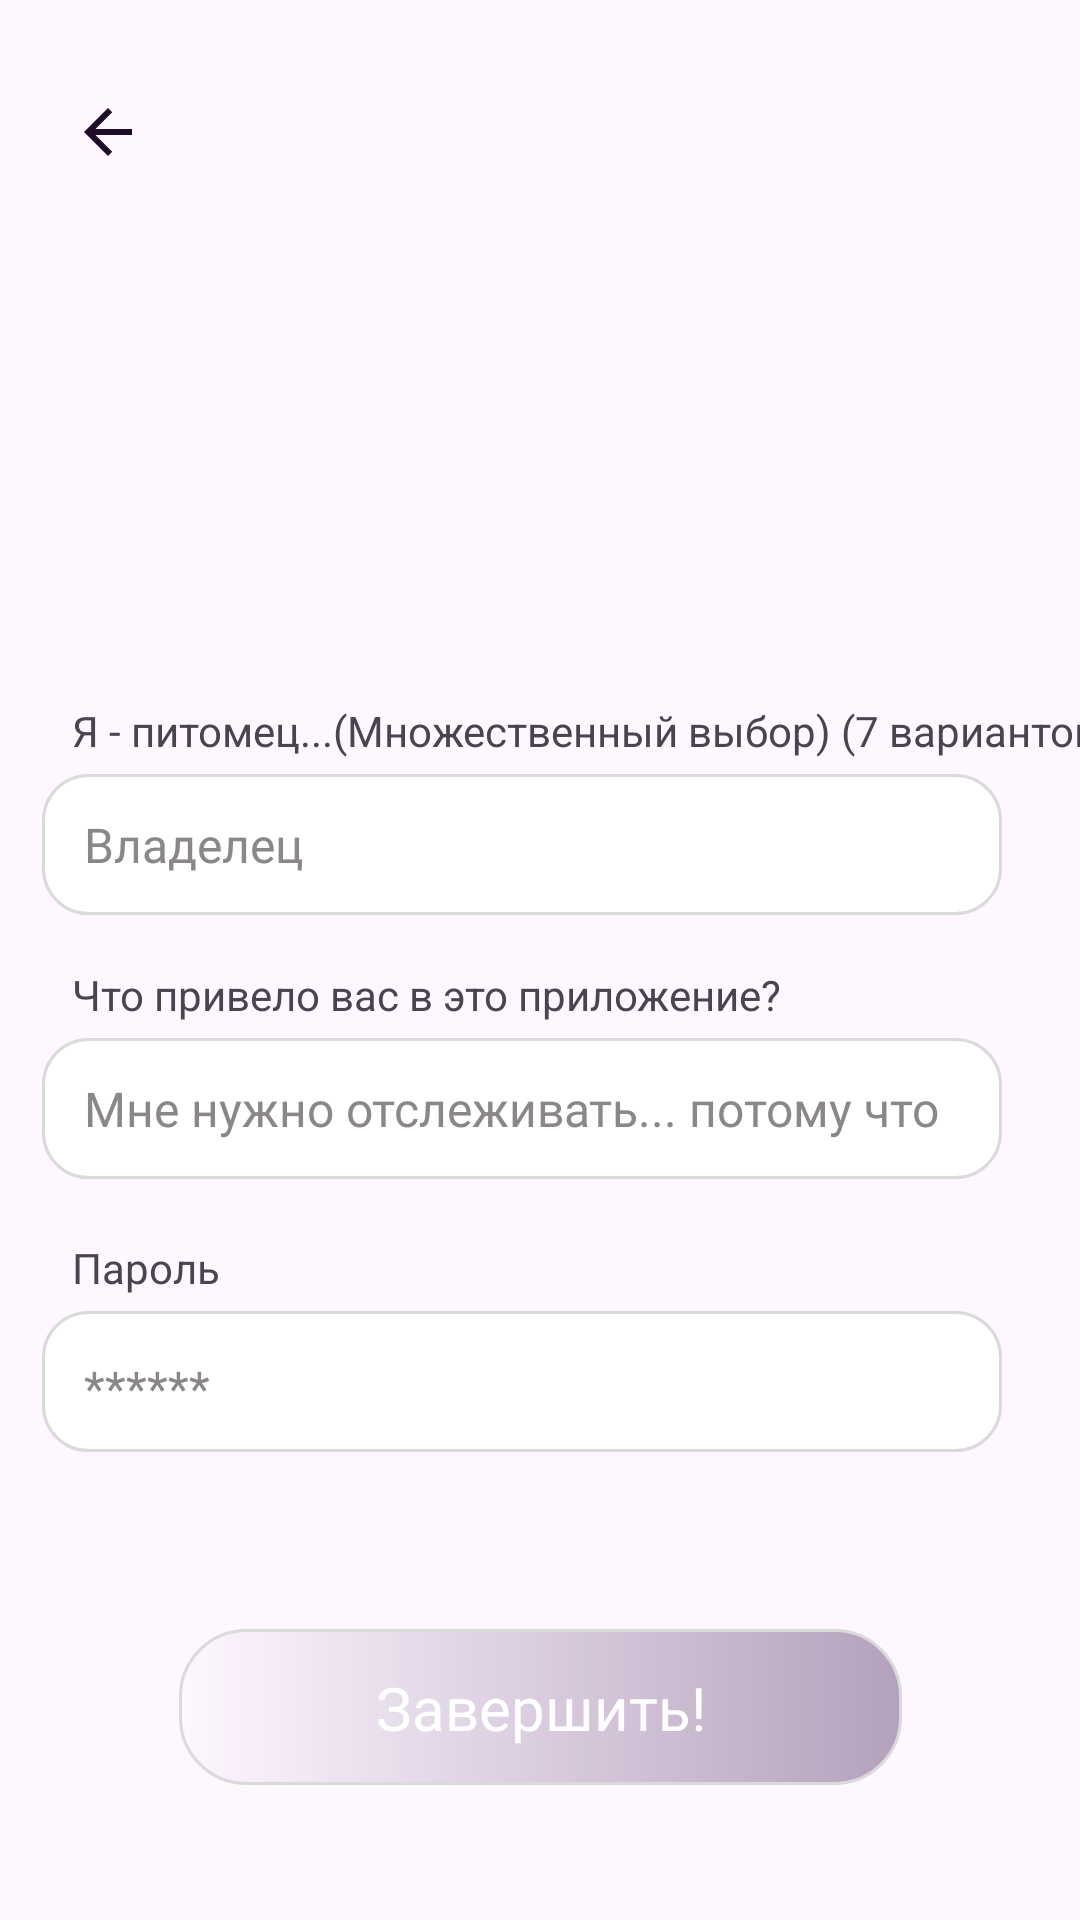

Point at icon controls on the screen. Image size 1080w x 1920h, points as [x,y].
arrow back: [108,132]
